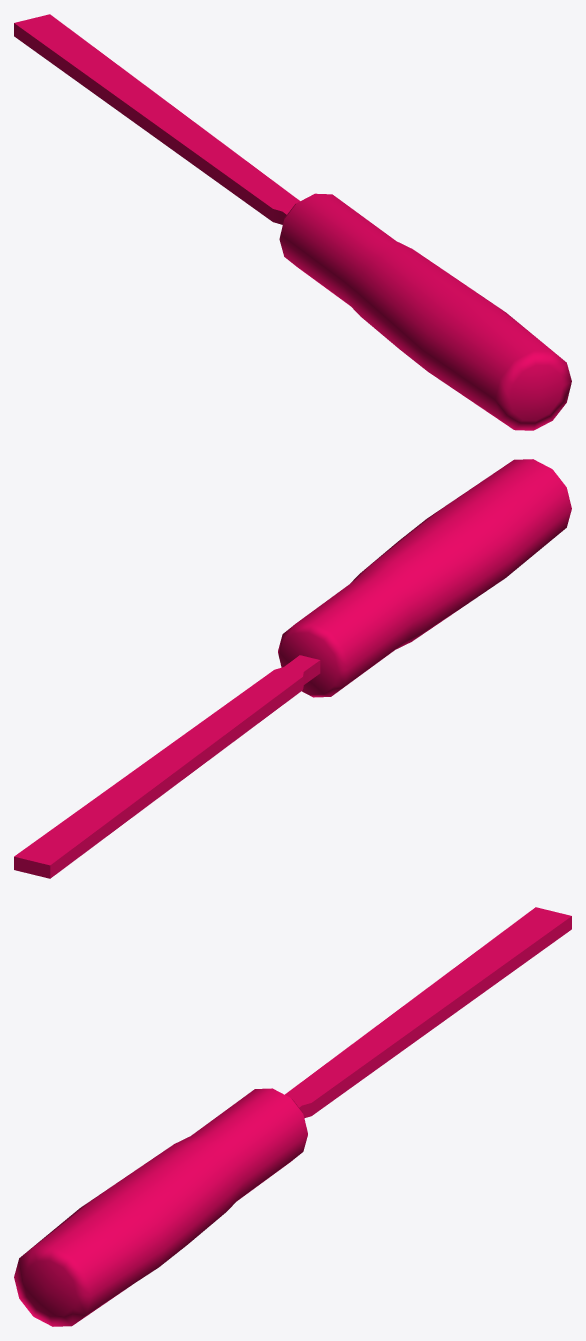
Rendered from Screwdriver_01_Lod0.fbx.
3 renders of one model, top to bottom at view 1: azimuth 30°, elevation 25°; view 2: azimuth 150°, elevation 25°; view 3: azimuth 330°, elevation 25°, orthographic.
Visible parts, largest first — view 1: Screwdriver_01_Lod0; view 2: Screwdriver_01_Lod0; view 3: Screwdriver_01_Lod0.
Part boxes in pixels (box(x1,y1,x2,y2)): Screwdriver_01_Lod0: box(14, 14, 571, 430); Screwdriver_01_Lod0: box(14, 459, 571, 878); Screwdriver_01_Lod0: box(14, 907, 571, 1326).
Bounding box in the file's own units: 4.5 × 3.8 × 43.6.
